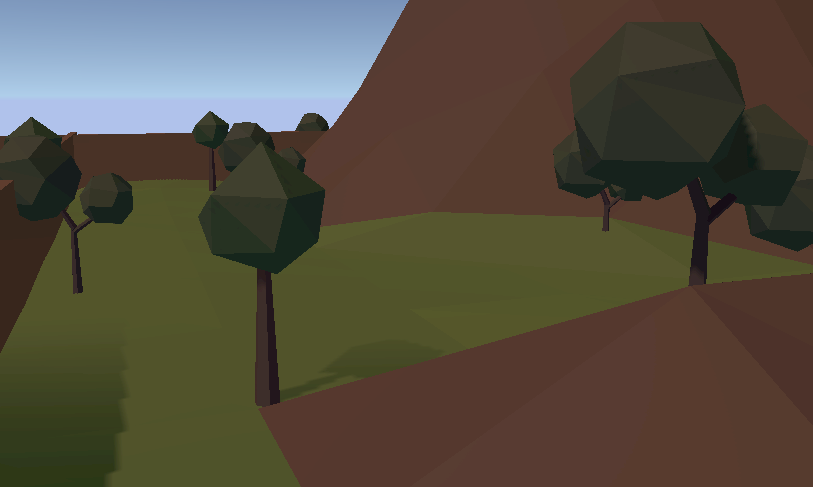tree: (572, 20, 807, 289), (195, 143, 327, 407), (1, 135, 136, 295), (555, 127, 647, 232), (187, 110, 229, 192), (293, 112, 330, 133)
